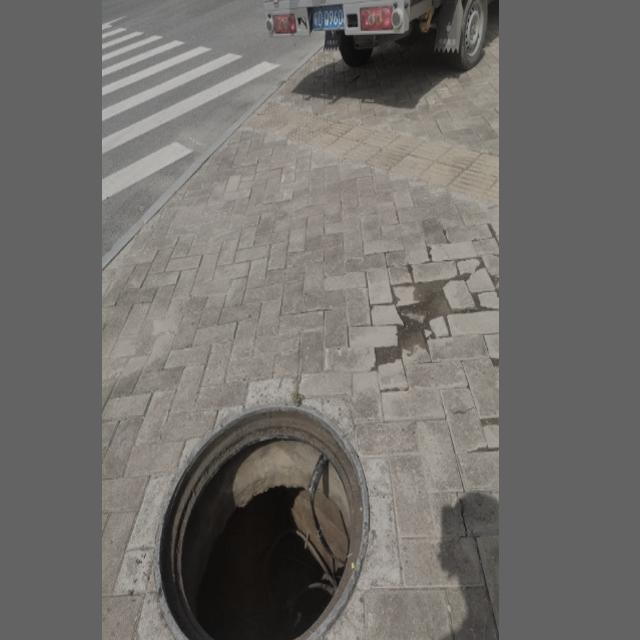lose: (147, 411, 388, 640)
